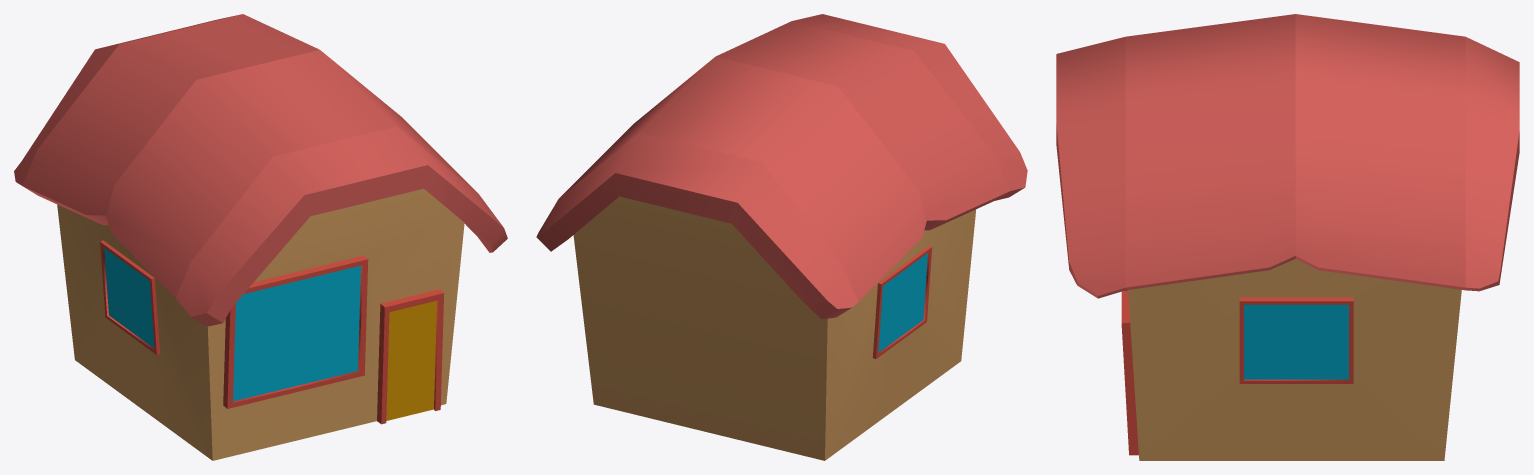
Rendered from House.fbx.
3 views of the same model, side by side, from view 1: azimuth 30°, elevation 25°; view 2: azimuth 150°, elevation 25°; view 3: azimuth 270°, elevation 25° (orthographic). The views are drawn at different scales.
Parts seen in each view (by area): view 1: House.001; view 2: House.001; view 3: House.001.
Part boxes in pixels (x1,y1,x2,y2): House.001: (14, 14, 507, 460); House.001: (536, 14, 1027, 460); House.001: (1056, 14, 1519, 460).
Size of the model in its own units: 3920 by 3734 by 4481.
